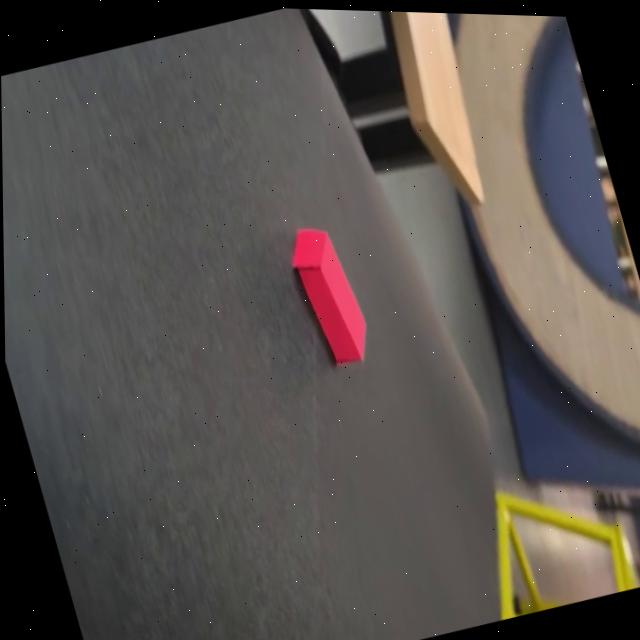red block: (284, 217, 377, 374)
